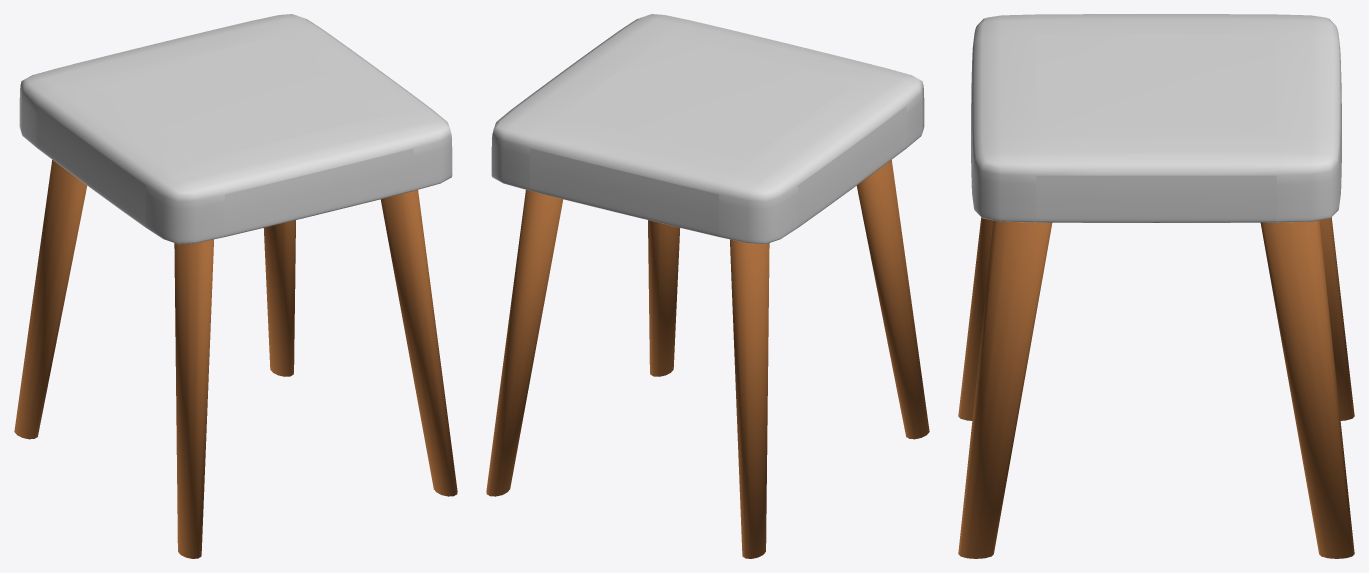
File: stool.fbx
3 views of the same model, side by side, from view 1: azimuth 30°, elevation 25°; view 2: azimuth 150°, elevation 25°; view 3: azimuth 270°, elevation 25° (orthographic). The views are drawn at different scales.
Visible parts, largest first — view 1: Stool; view 2: Stool; view 3: Stool.
Boxes of the visible parts, box(x1,y1,x2,y2) form: Stool: box(14, 14, 457, 558); Stool: box(486, 14, 929, 558); Stool: box(958, 14, 1354, 558).
Size of the model in its own units: 1.62 by 1.93 by 1.73.
